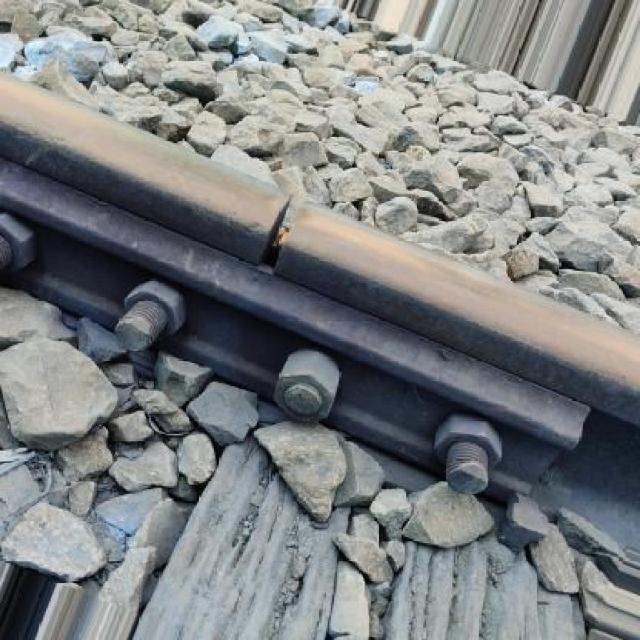defective: (2, 63, 640, 486)
